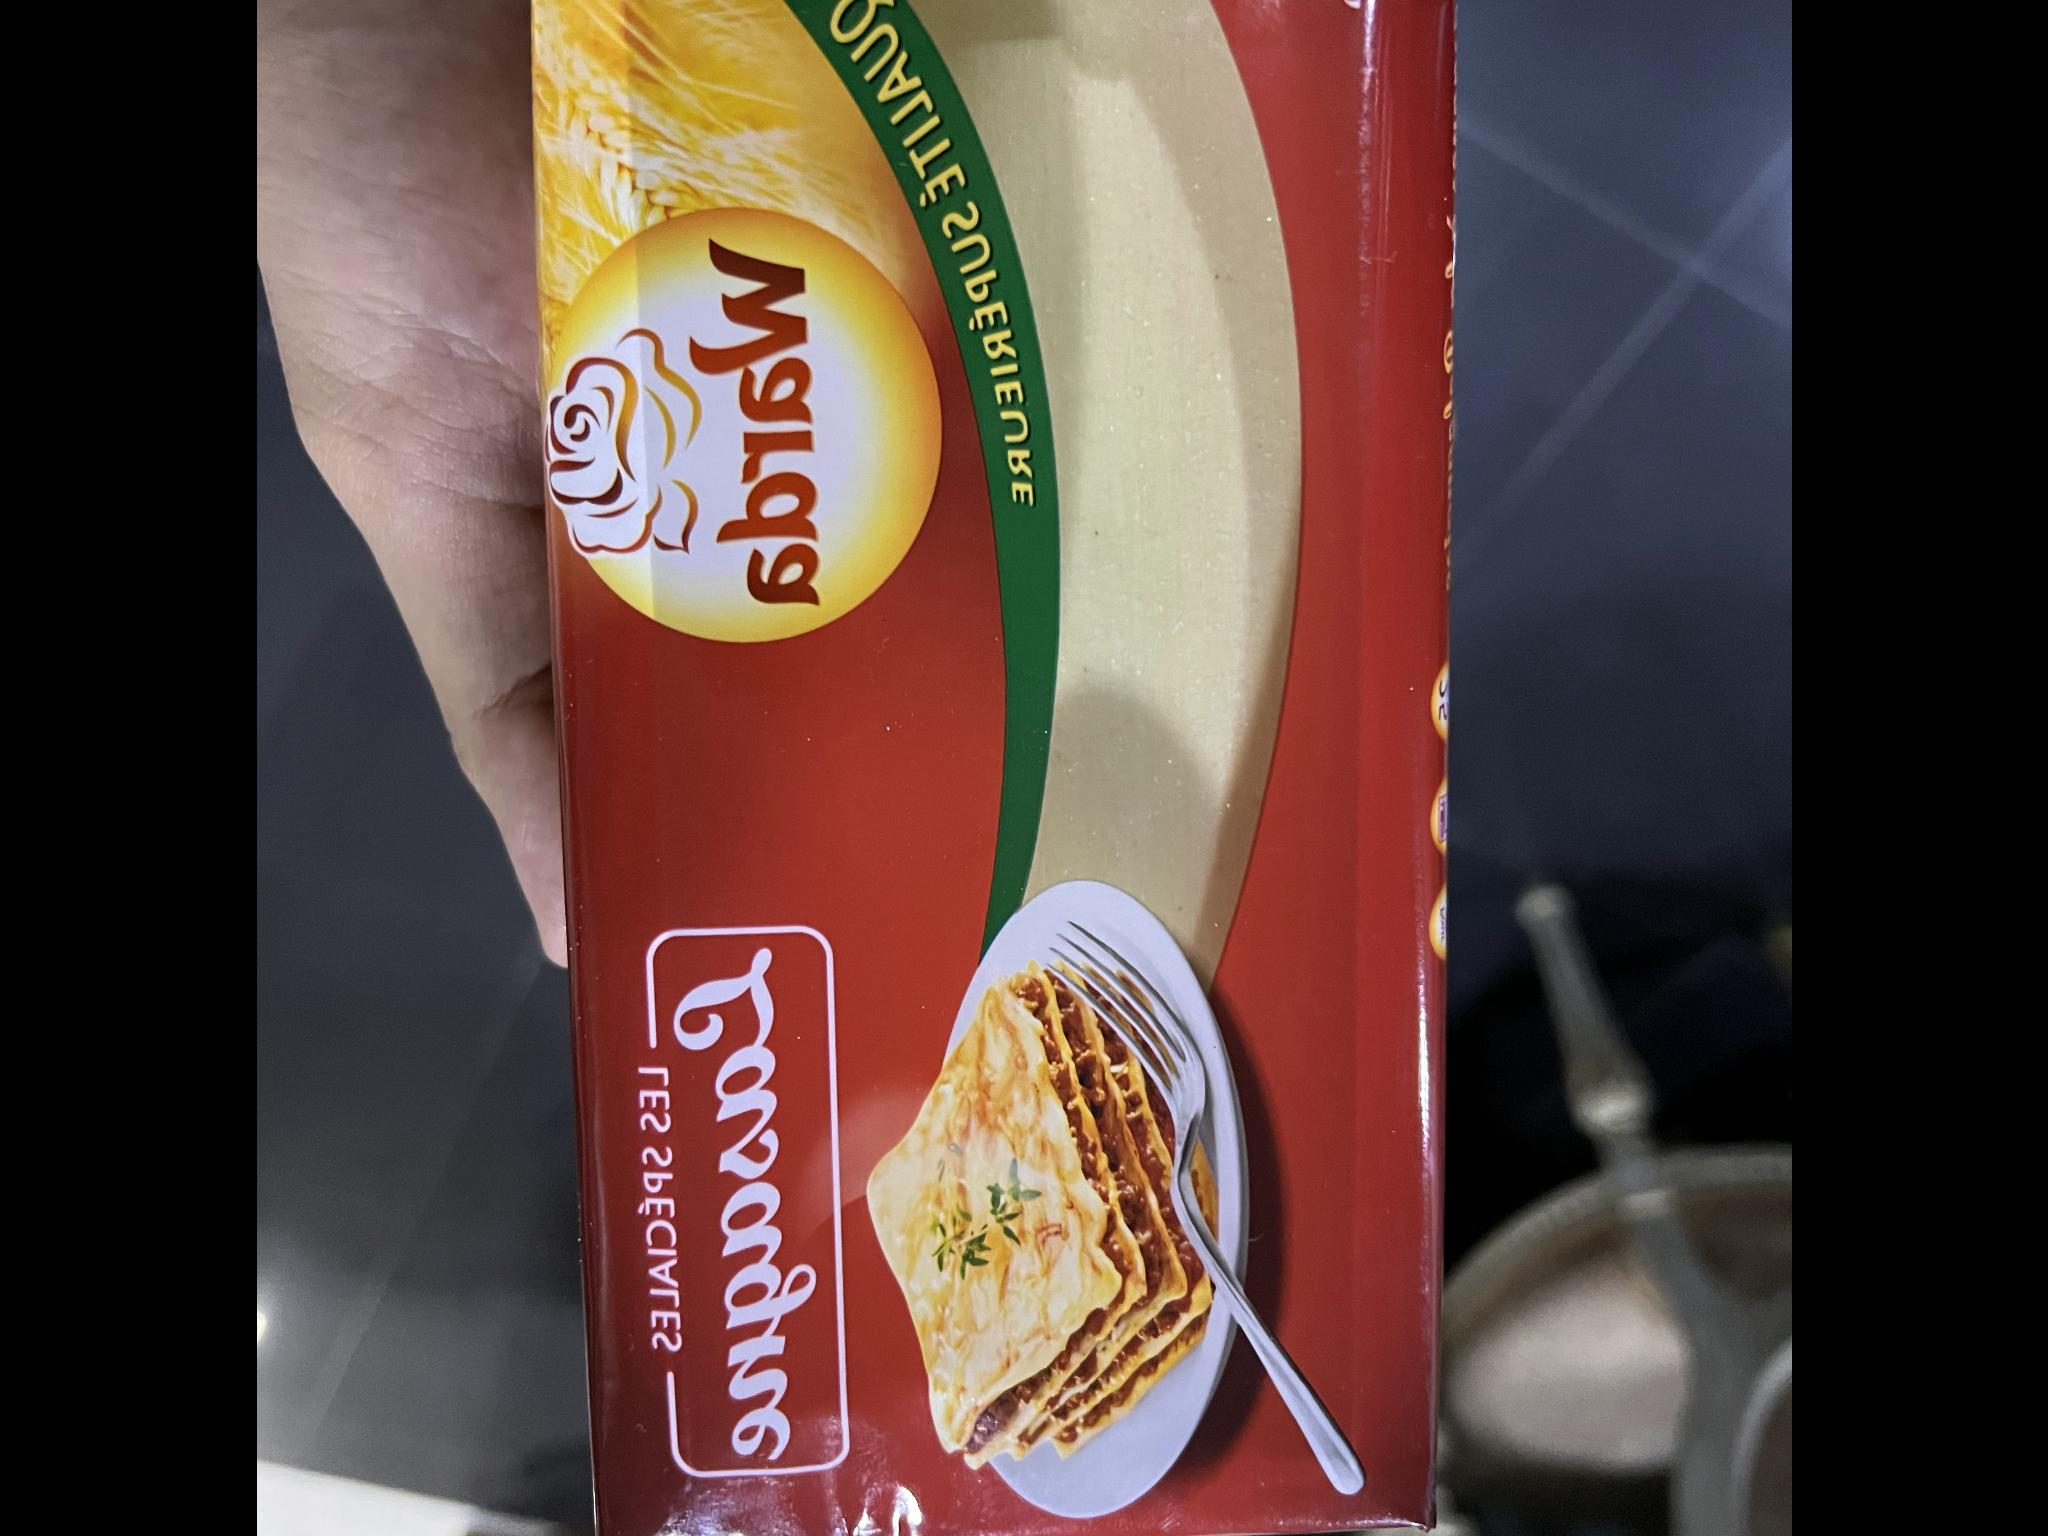lasagne: (563, 0, 1416, 1536)
